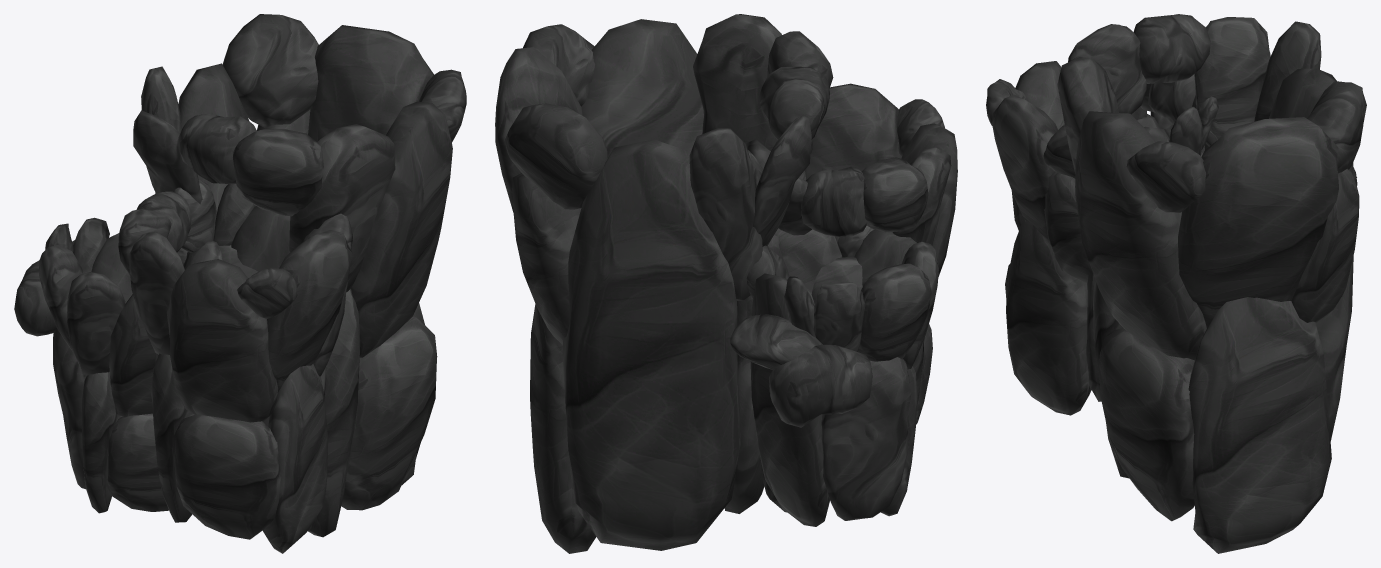
Rendered from IslandPlatformRocks2Shape.dae.
3 views of the same model, side by side, from view 1: azimuth 30°, elevation 25°; view 2: azimuth 150°, elevation 25°; view 3: azimuth 270°, elevation 25° (orthographic). The views are drawn at different scales.
Parts seen in each view (by area): view 1: IslandPlatformRocks2; view 2: IslandPlatformRocks2; view 3: IslandPlatformRocks2.
Boxes of the visible parts, bbox=[...] form: IslandPlatformRocks2: bbox=[14, 14, 466, 553]; IslandPlatformRocks2: bbox=[495, 14, 957, 553]; IslandPlatformRocks2: bbox=[986, 14, 1366, 553].
Bounding box in the file's own units: 78.35 × 85.22 × 65.91.
